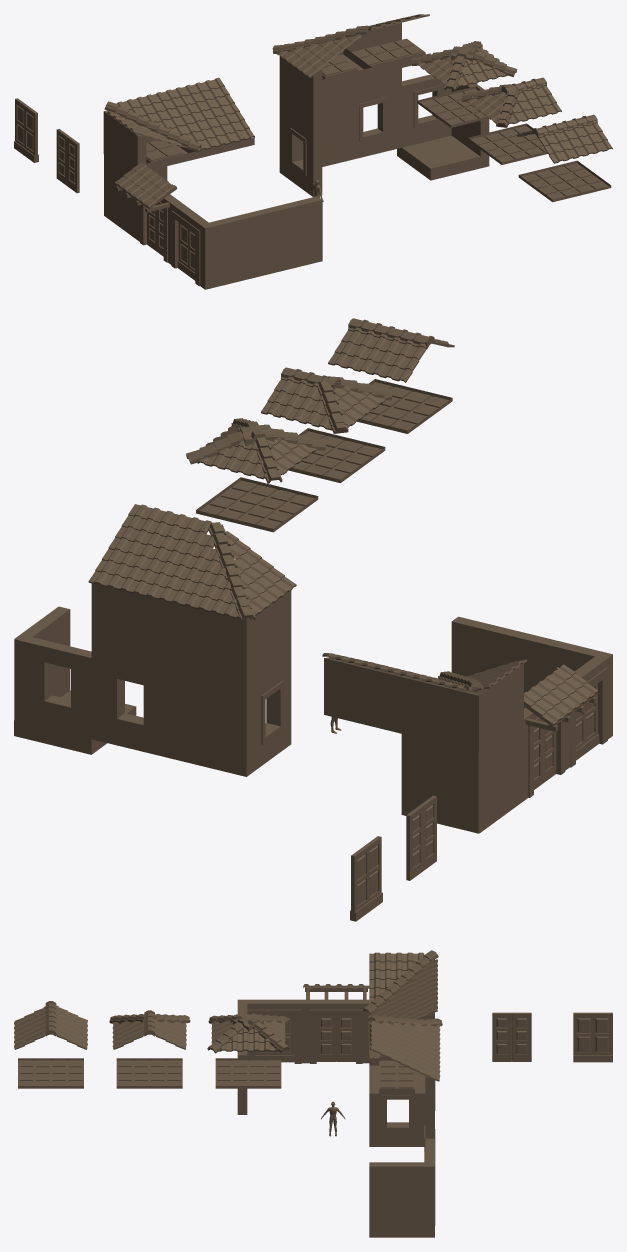
Rendered from casa_romana.fbx.
3 renders of one model, top to bottom at view 1: azimuth 30°, elevation 25°; view 2: azimuth 150°, elevation 25°; view 3: azimuth 270°, elevation 25°, orthographic. The views are drawn at different scales.
Visible parts, largest first — view 1: Casa telhado canto, base peca 2.004, Patio telhado canto, Casa telhado topo canto, Casa telhado topo meio, Patio telhado meio, Casa telhado topo central, base peca 2.001, Parede meio, Casa telhado meio, Casa parede janela, Casa quina janela (+8 smaller); view 2: Casa telhado canto, Casa telhado meio, base peca 2.001, Parede canto, Casa telhado topo central, Patio telhado canto, Casa telhado topo canto, Casa quina janela, Casa telhado topo meio, Casa parede janela, Patio telhado meio, base peca 2.004 (+8 smaller); view 3: Casa telhado topo central, Casa quina janela, Casa telhado topo meio, Casa telhado topo canto, Casa telhado meio, Patio telhado canto, base peca 2.001, porta meio, porta 2.001, Porta.001, Porta, base peca 2.004 (+5 smaller).
Part boxes in pixels (x1,y1,x2,y2): Casa telhado canto: [272, 25, 371, 135]; base peca 2.004: [171, 201, 263, 289]; Patio telhado canto: [103, 92, 201, 171]; Casa telhado topo canto: [461, 77, 561, 164]; Casa telhado topo meio: [517, 114, 612, 202]; Patio telhado meio: [161, 77, 254, 158]; Casa telhado topo central: [411, 41, 517, 127]; base peca 2.001: [279, 101, 343, 196]; Parede meio: [259, 196, 322, 275]; Casa telhado meio: [343, 14, 430, 100]; Casa parede janela: [343, 86, 401, 161]; Casa quina janela: [402, 74, 489, 156]; Casa telhado canto: [166, 522, 296, 695]; Casa telhado meio: [88, 504, 212, 676]; base peca 2.001: [169, 663, 291, 776]; Parede canto: [401, 720, 523, 833]; Casa telhado topo central: [186, 418, 326, 532]; Patio telhado canto: [400, 659, 526, 752]; Casa telhado topo canto: [261, 367, 392, 482]; Casa quina janela: [14, 606, 91, 738]; Casa telhado topo meio: [328, 318, 454, 433]; Casa parede janela: [91, 658, 168, 757]; Patio telhado meio: [322, 653, 437, 733]; base peca 2.004: [529, 635, 612, 767]; Casa telhado topo central: [207, 1013, 289, 1088]; Casa quina janela: [369, 1138, 435, 1226]; Casa telhado topo meio: [14, 1001, 87, 1088]; Casa telhado topo canto: [109, 1010, 190, 1088]; Casa telhado meio: [369, 1020, 440, 1138]; Patio telhado canto: [362, 950, 438, 1019]; base peca 2.001: [369, 1088, 425, 1146]; porta meio: [303, 999, 369, 1063]; porta 2.001: [573, 1012, 612, 1062]; Porta.001: [492, 1012, 531, 1061]; Porta: [316, 1016, 355, 1061]; base peca 2.004: [237, 999, 303, 1063].
Size of the model in its own units: 3837 by 1818 by 5456.
